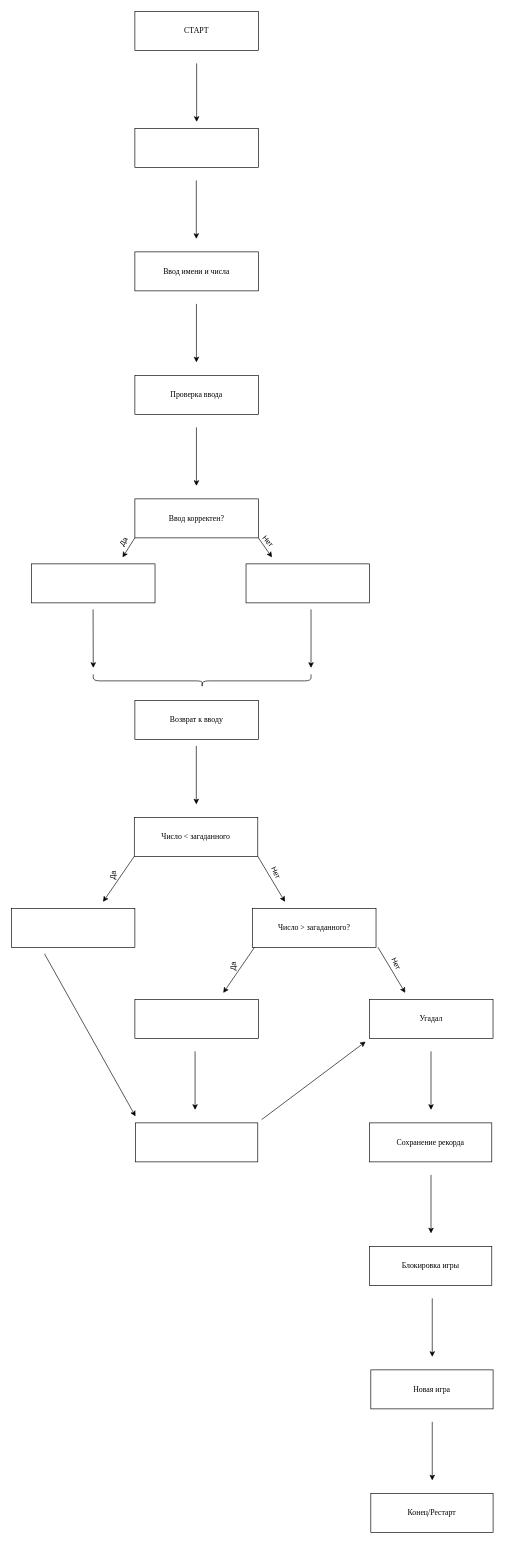
This 505x1544 diagram has some shape labels left out. The centre of each missing label's shape, as x and y in pixels:
"Больше" belongs at (x=73, y=927).
"Генерация случайного числа" belongs at (x=196, y=147).
"Меньше" belongs at (x=196, y=1018).
"Ошибка" belongs at (x=307, y=583).
"Сравнение" belongs at (x=93, y=583).
"Цикл" belongs at (x=196, y=1142).
